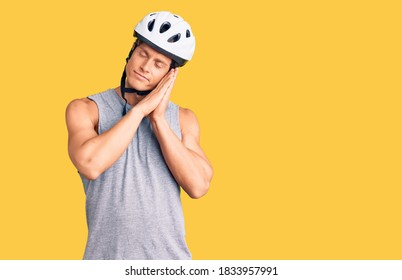helmet: (125, 11, 196, 92)
